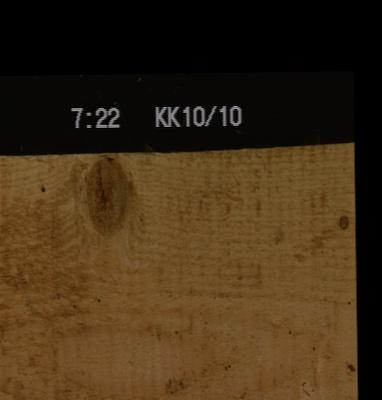dry_knot: (336, 212, 348, 229)
sound_knot: (80, 153, 129, 236)
